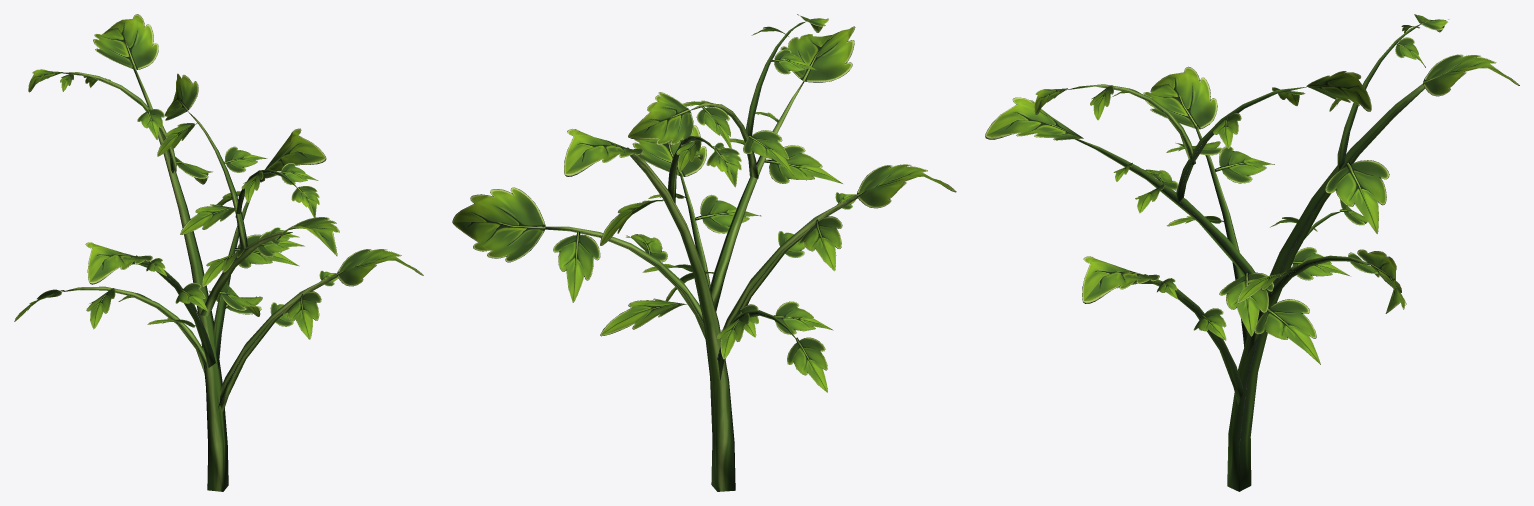
Rendered from Tomato.fbx.
The picture shows the model from 3 angles, left to right: view 1: azimuth 30°, elevation 25°; view 2: azimuth 150°, elevation 25°; view 3: azimuth 270°, elevation 25°; orthographic projection. The views are drawn at different scales.
Parts seen in each view (by area): view 1: Tomato_Plant; view 2: Tomato_Plant; view 3: Tomato_Plant.
Part boxes in pixels (x1,y1,x2,y2): Tomato_Plant: [14, 14, 423, 491]; Tomato_Plant: [452, 14, 956, 491]; Tomato_Plant: [985, 14, 1519, 491].
Bounding box in the file's own units: 1269 × 1377 × 1533.
